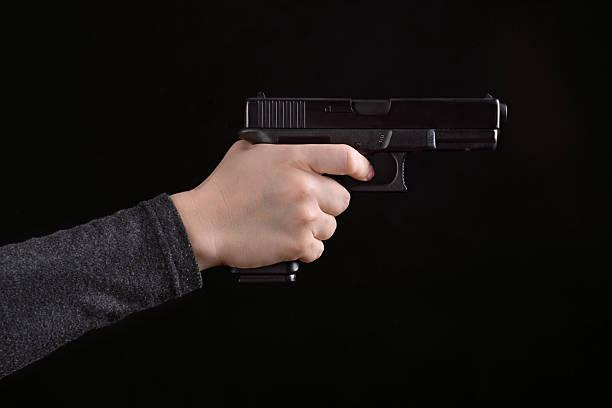weapon: (225, 87, 512, 286)
